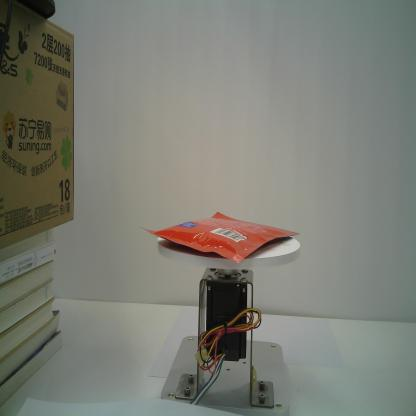Dried Fruit: (139, 211, 301, 264)
